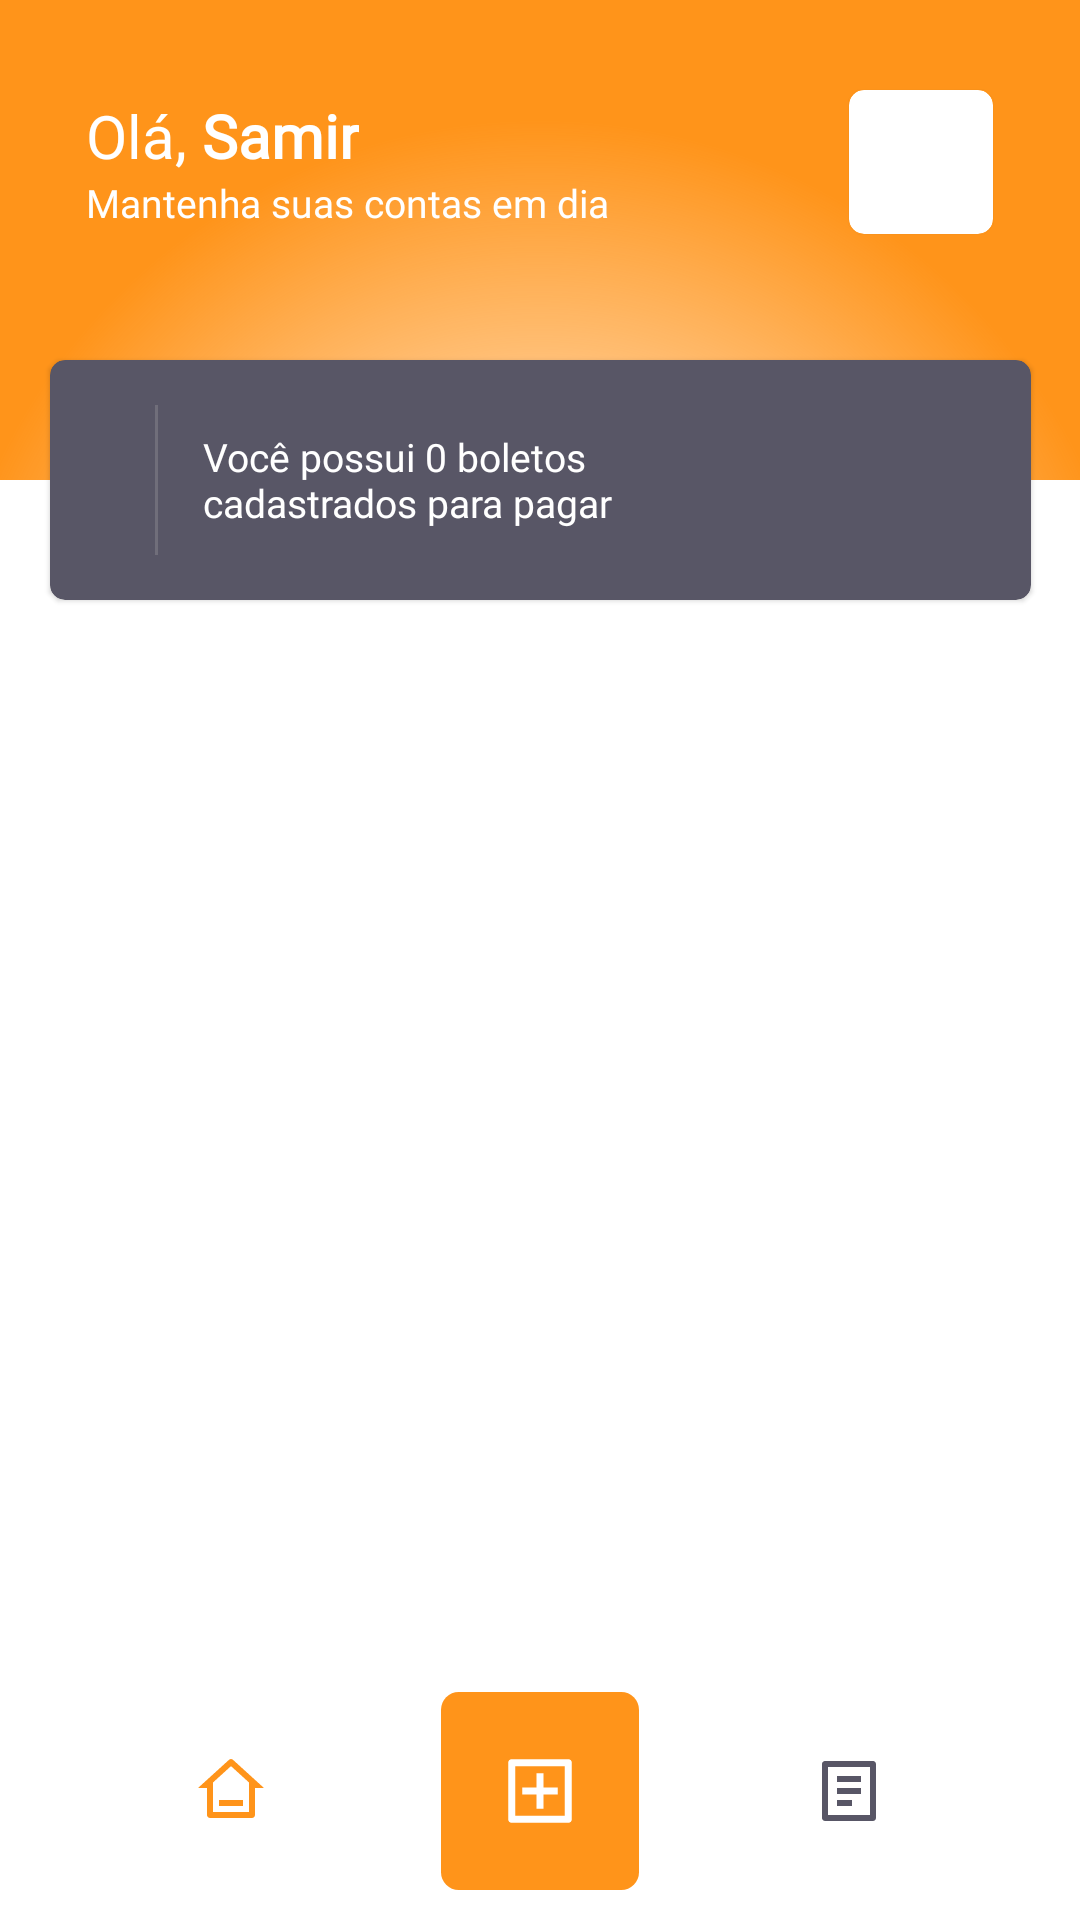

Named icons in this screenshot (1080px×1920px) and their bounding boxes, (x1, y1, x2, y2):
add box: (441, 1692, 639, 1890)
file list line: (822, 1761, 876, 1821)
home: (198, 1759, 264, 1818)
